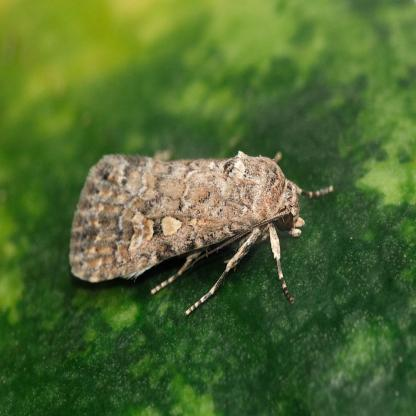armyworm: (63, 130, 317, 294)
